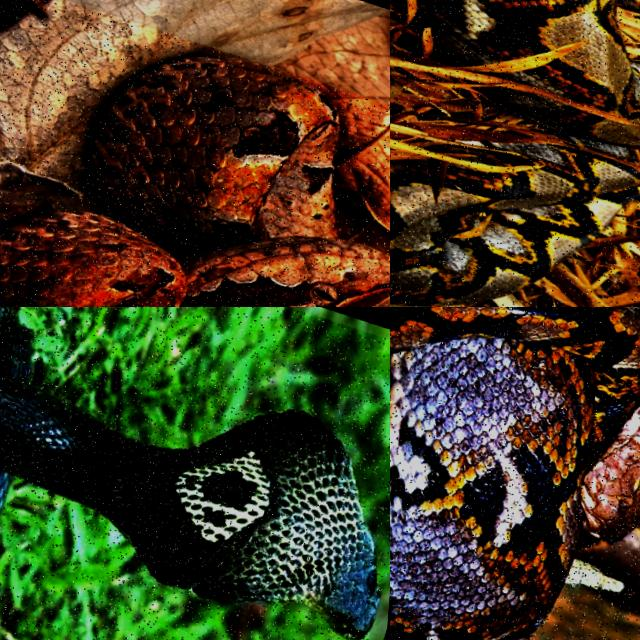Calloselasma rhodostoma: (0, 56, 389, 306)
Malayopython reticulatus: (390, 307, 639, 639), (390, 0, 639, 305)
Naja kaouthia: (0, 307, 378, 638)
snake: (0, 307, 378, 638), (0, 56, 389, 306), (390, 307, 639, 639), (390, 0, 639, 305)
